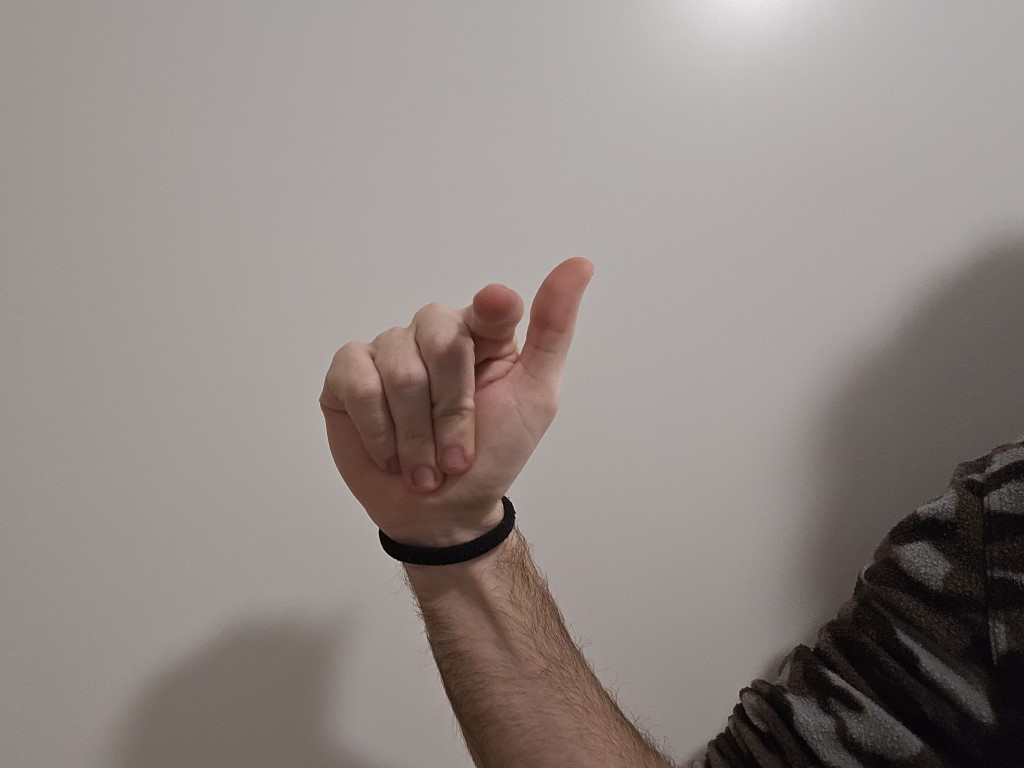t: (259, 227, 619, 523)
